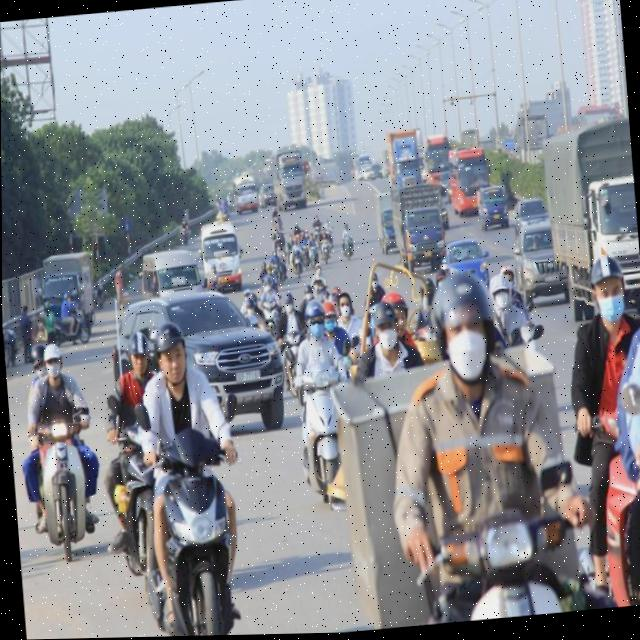car: (117, 281, 294, 450), (550, 111, 640, 329), (200, 221, 245, 294), (513, 193, 550, 251), (475, 180, 513, 232)
motorcycle: (112, 422, 251, 638), (397, 510, 611, 626), (28, 407, 101, 567), (292, 372, 351, 514), (340, 236, 357, 260), (319, 239, 334, 266)
